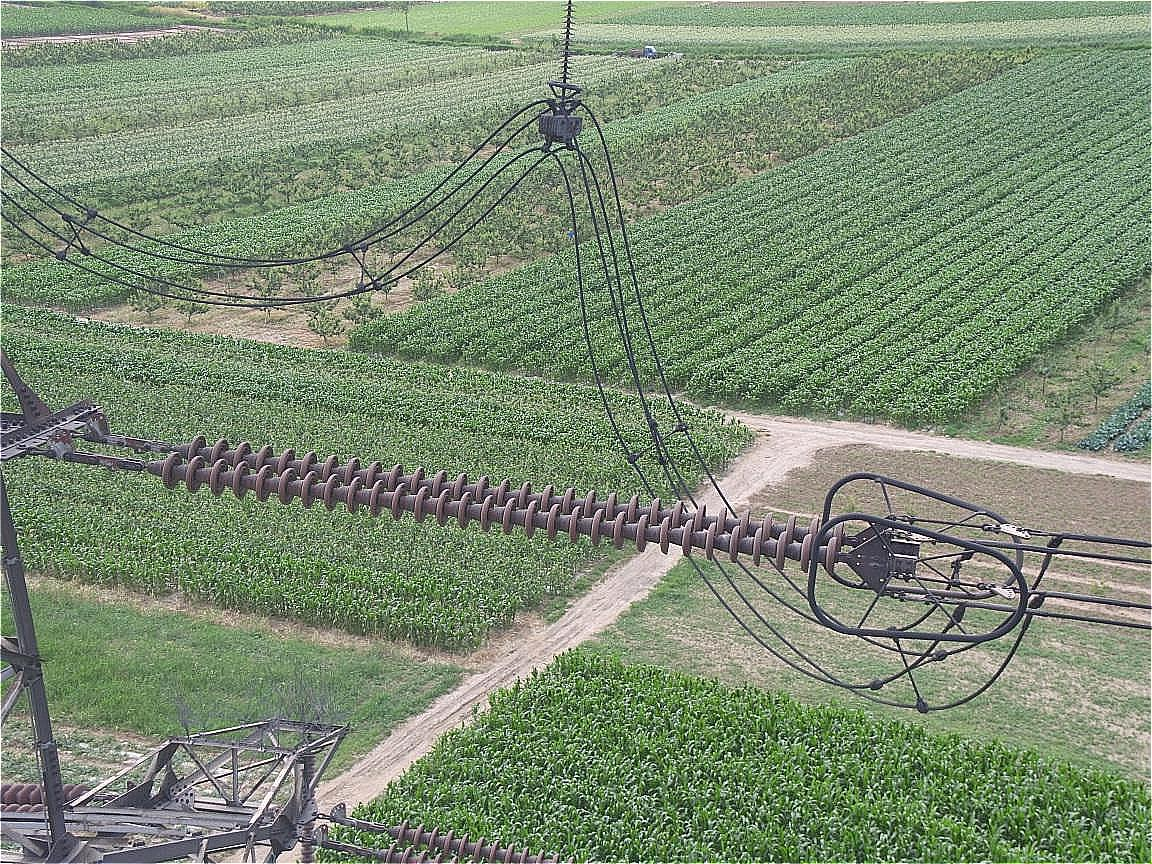insultor1: (152, 419, 862, 588)
